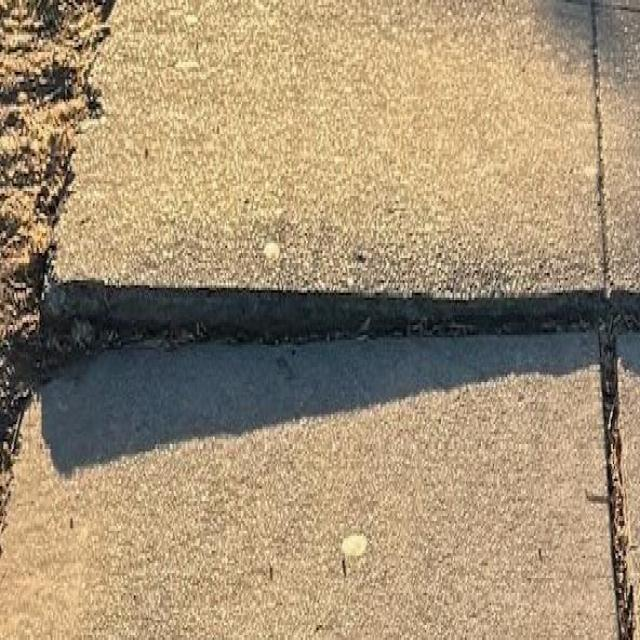bump: (31, 198, 640, 438)
